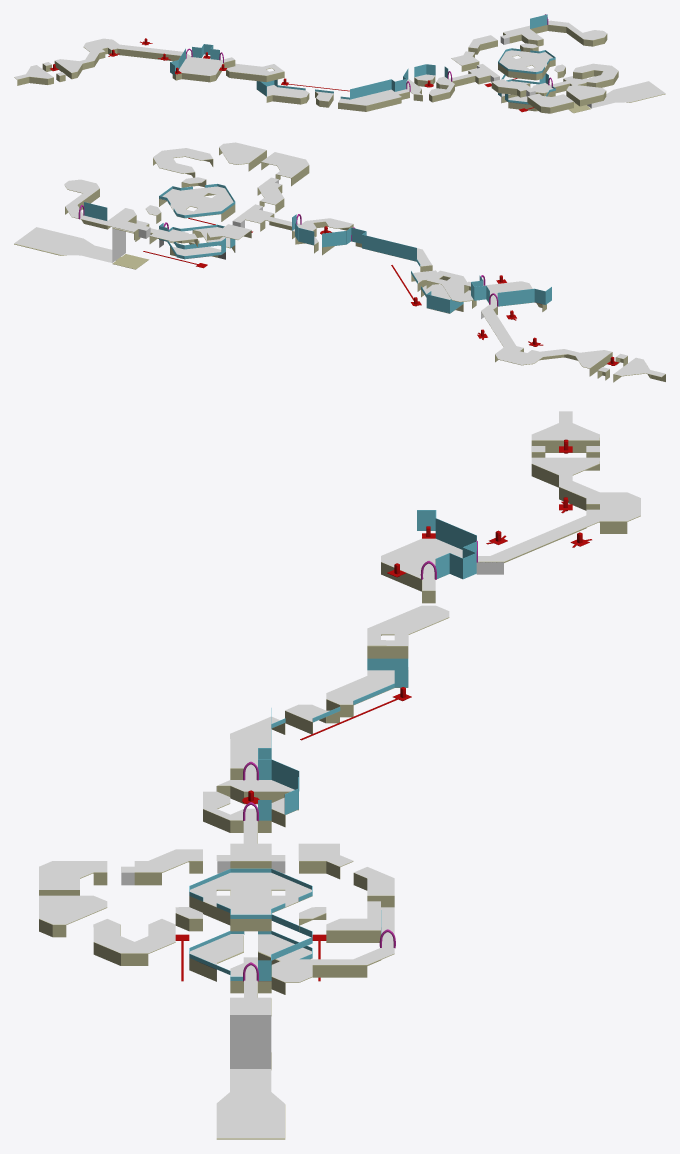
The model's file is 2022_06_09_Level2_Test1.fbx.
The picture shows the model from 3 angles, top to bottom: view 1: azimuth 30°, elevation 25°; view 2: azimuth 150°, elevation 25°; view 3: azimuth 270°, elevation 25°; orthographic projection. The views are drawn at different scales.
Parts seen in each view (by area): view 1: Plane004, Box987, Box132, Plane002, Plane006, Box823, Cylinder005, Box813, Box1140, Plane003, Cylinder007, Box106 (+3 smaller); view 2: Plane004, Plane006, Box987, Plane002, Box132, Box823, Box1140, Cylinder005, Plane003, Box813, Plane001, Box646; view 3: Plane004, Plane006, Box987, Plane002, Cylinder005, Box823, Box1140, Box132, Plane003, Box813, Cylinder007, Plane001.
Part boxes in pixels (x1,y1,x2,y2): Plane004: (267, 20, 618, 107); Box987: (451, 14, 618, 113); Box132: (256, 78, 409, 111); Plane002: (43, 38, 234, 75); Plane006: (501, 76, 665, 108); Box823: (170, 44, 235, 82); Cylinder005: (403, 64, 454, 102); Box813: (54, 47, 180, 79); Box1140: (484, 73, 555, 112); Plane003: (226, 63, 283, 75); Cylinder007: (545, 14, 607, 46); Box106: (226, 68, 284, 82); Plane004: (64, 142, 450, 299); Plane006: (14, 220, 230, 262); Box987: (80, 147, 309, 246); Plane002: (464, 281, 627, 371); Box132: (351, 227, 463, 313); Box823: (464, 275, 551, 311); Box1140: (143, 218, 252, 268); Cylinder005: (292, 214, 355, 255); Plane003: (426, 270, 472, 301); Box813: (481, 306, 612, 376); Plane001: (614, 357, 665, 376); Box646: (14, 243, 148, 269); Plane004: (39, 670, 408, 982); Plane006: (190, 934, 311, 1138); Box987: (39, 821, 394, 965); Plane002: (381, 446, 640, 590); Cylinder005: (203, 759, 299, 832); Box823: (381, 510, 477, 603); Box1140: (175, 914, 326, 993); Box132: (230, 658, 411, 779); Plane003: (367, 605, 449, 645); Box813: (478, 461, 640, 562); Cylinder007: (271, 929, 395, 994); Plane001: (531, 411, 599, 440).
Bounding box in the file's own units: 285 × 48.17 × 132.
